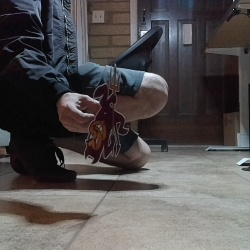sparky: (83, 62, 129, 164)
